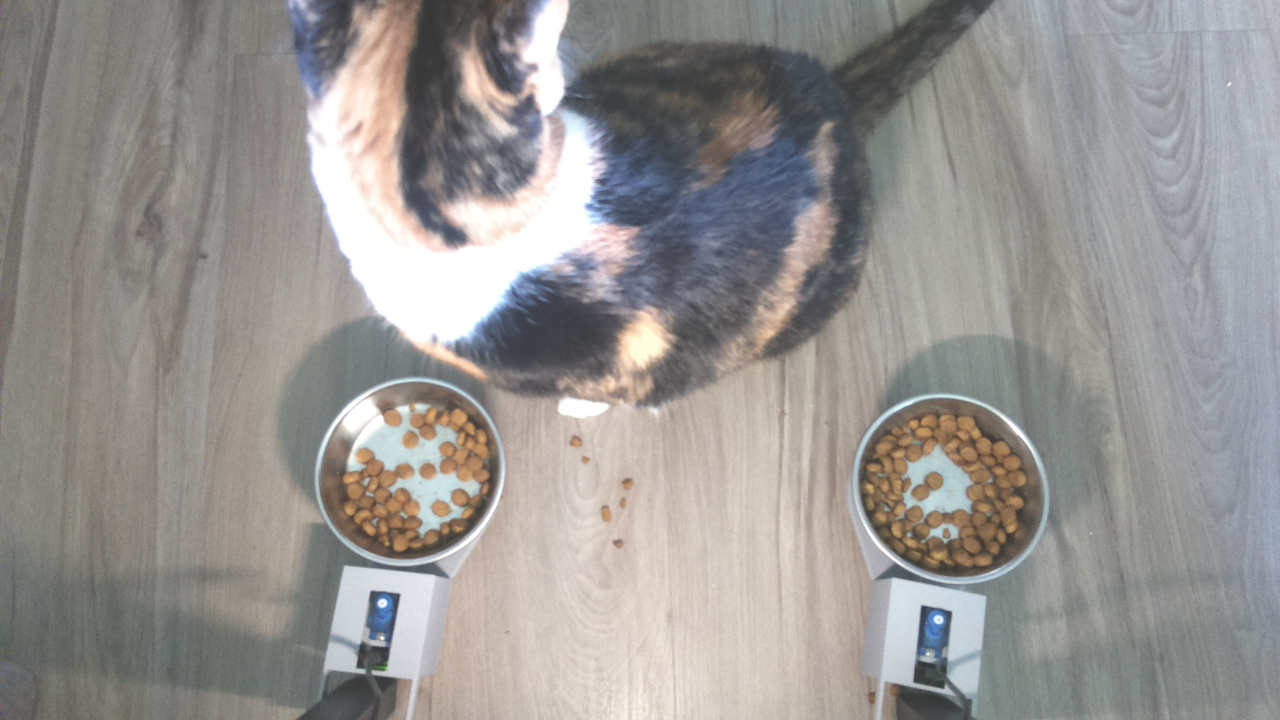bella: (273, 1, 575, 253)
open_bowl: (851, 391, 1052, 586), (312, 375, 508, 570)
